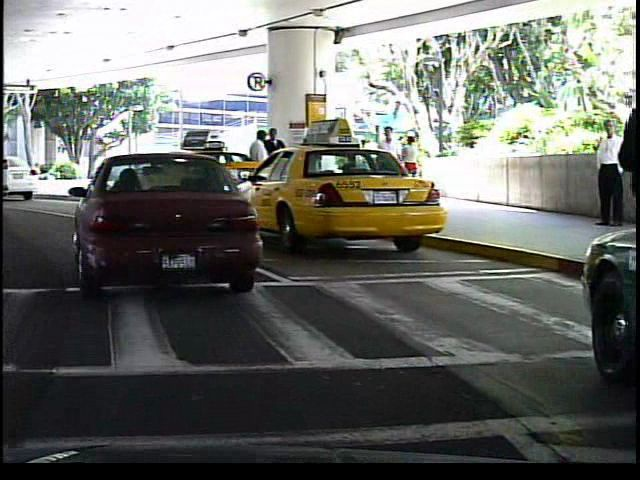person: (582, 112, 619, 237), (372, 119, 407, 206), (242, 127, 273, 208), (395, 130, 423, 198), (265, 126, 286, 204)
